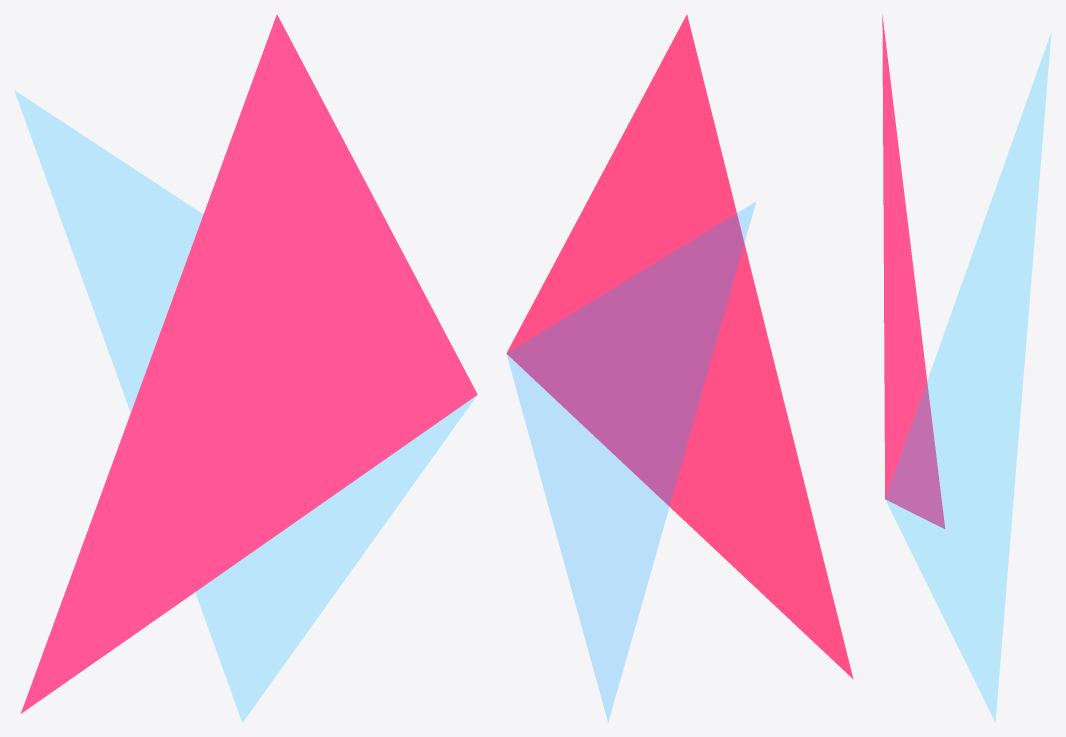
File: symbl.glb
3 renders of one model, left to right at view 1: azimuth 30°, elevation 25°; view 2: azimuth 150°, elevation 25°; view 3: azimuth 270°, elevation 25°, orthographic. The views are drawn at different scales.
Visible parts, largest first — view 1: logo; view 2: logo; view 3: logo.
Part boxes in pixels (<box>): logo: <box>15,14,477,721</box>; logo: <box>506,14,853,721</box>; logo: <box>882,15,1050,721</box>.
Size of what is drawn, in the model's own units: 2 by 3.43 by 0.7553.
